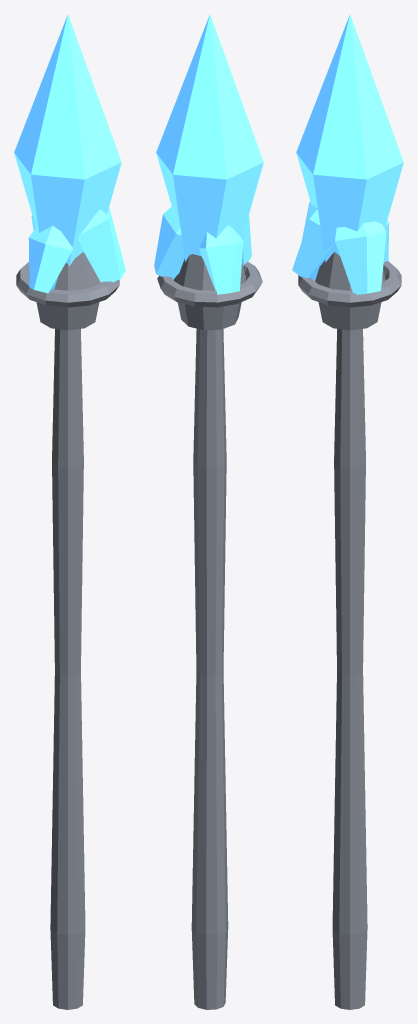
File: staff_ice.glb
The picture shows the model from 3 angles, left to right: view 1: azimuth 90°, elevation 25°; view 2: azimuth 150°, elevation 25°; view 3: azimuth 270°, elevation 25°; orthographic projection.
Visible parts, largest first — view 1: Ice_Shaft, Ice_Main, Ice_Socket, Ice_Side2, Ice_Side1, Ice_Ring; view 2: Ice_Shaft, Ice_Main, Ice_Socket, Ice_Side1, Ice_Ring, Ice_Side0, Ice_Side2; view 3: Ice_Shaft, Ice_Main, Ice_Side0, Ice_Socket, Ice_Ring, Ice_Side2.
Part boxes in pixels (x1,y1,x2,y2): Ice_Shaft: (50,329,85,1009); Ice_Main: (14,14,121,266); Ice_Socket: (36,252,100,330); Ice_Side2: (78,207,125,282); Ice_Side1: (28,225,72,293); Ice_Ring: (16,262,119,307); Ice_Shaft: (191,328,228,1009); Ice_Main: (156,14,263,261); Ice_Socket: (174,254,245,330); Ice_Side1: (199,225,243,294); Ice_Ring: (157,261,262,307); Ice_Side0: (154,205,184,279); Ice_Side2: (242,215,251,266); Ice_Shaft: (332,329,367,1009); Ice_Main: (296,14,403,262); Ice_Side0: (335,221,386,294); Ice_Socket: (315,252,384,330); Ice_Ring: (298,261,401,307); Ice_Side2: (292,201,335,280).
Bounding box in the file's own units: 0.2048 × 2.08 × 0.2131.
